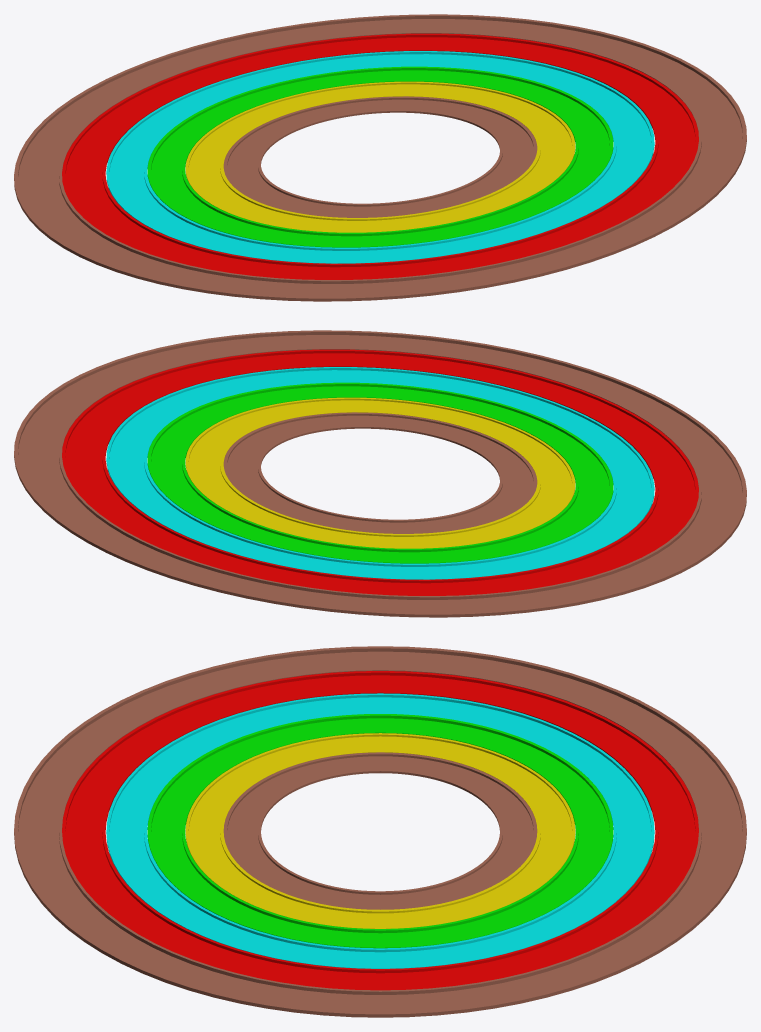
File: san_nhay.fbx
3 views of the same model, one above another, from view 1: azimuth 30°, elevation 25°; view 2: azimuth 150°, elevation 25°; view 3: azimuth 270°, elevation 25° (orthographic). The views are drawn at different scales.
Parts seen in each view (by area): view 1: polySurface7, polySurface6, polySurface5, polySurface4, polySurface2, polySurface1; view 2: polySurface7, polySurface6, polySurface5, polySurface4, polySurface2, polySurface1; view 3: polySurface7, polySurface6, polySurface5, polySurface4, polySurface2, polySurface1.
Boxes of the visible parts, left/top/right/bottom form: polySurface7: left=14, top=14, right=746, bottom=301; polySurface6: left=62, top=33, right=698, bottom=279; polySurface5: left=106, top=51, right=654, bottom=263; polySurface4: left=147, top=66, right=613, bottom=247; polySurface2: left=185, top=81, right=575, bottom=232; polySurface1: left=223, top=96, right=537, bottom=217; polySurface7: left=14, top=330, right=746, bottom=617; polySurface6: left=62, top=349, right=698, bottom=595; polySurface5: left=106, top=367, right=654, bottom=579; polySurface4: left=147, top=382, right=613, bottom=563; polySurface2: left=185, top=397, right=575, bottom=548; polySurface1: left=223, top=412, right=537, bottom=533; polySurface7: left=14, top=646, right=746, bottom=1017; polySurface6: left=62, top=671, right=698, bottom=990; polySurface5: left=106, top=693, right=654, bottom=968; polySurface4: left=147, top=714, right=613, bottom=948; polySurface2: left=185, top=733, right=575, bottom=928; polySurface1: left=223, top=752, right=537, bottom=909.
Size of the model in its own units: 90.47 by 0.3769 by 76.12.
